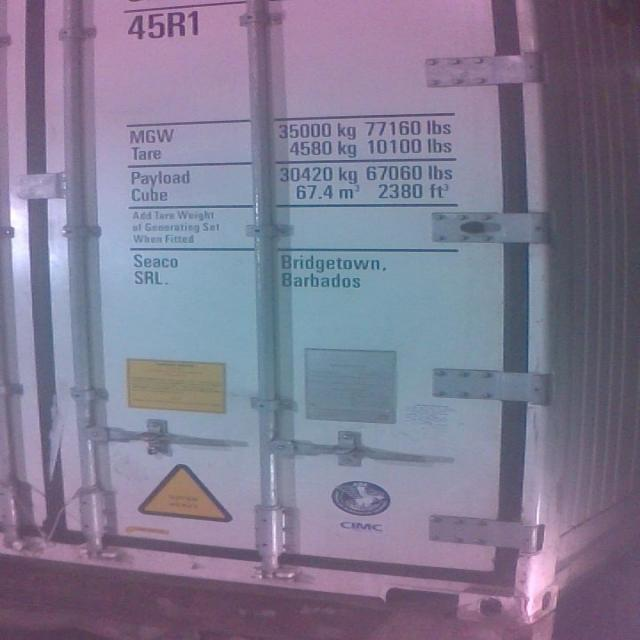seal: (132, 431, 175, 457)
